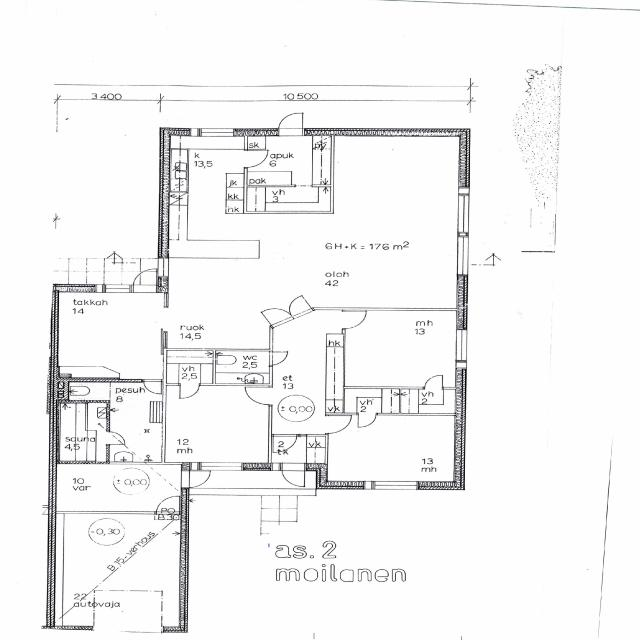door: (260, 302, 293, 328), (280, 294, 313, 319), (278, 110, 302, 136), (133, 267, 156, 293), (282, 463, 304, 487), (244, 387, 272, 405), (243, 150, 270, 168), (182, 472, 212, 488), (156, 494, 180, 514), (324, 416, 352, 433), (342, 311, 368, 329), (273, 435, 297, 454), (143, 379, 162, 395), (180, 383, 199, 399), (424, 373, 442, 389), (268, 352, 289, 365), (358, 413, 376, 428), (106, 432, 128, 444)
